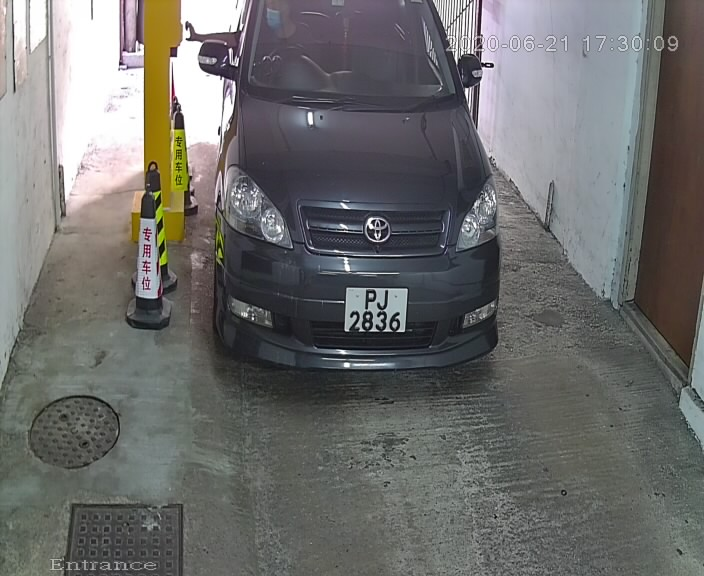privatecar: (192, 2, 536, 410)
